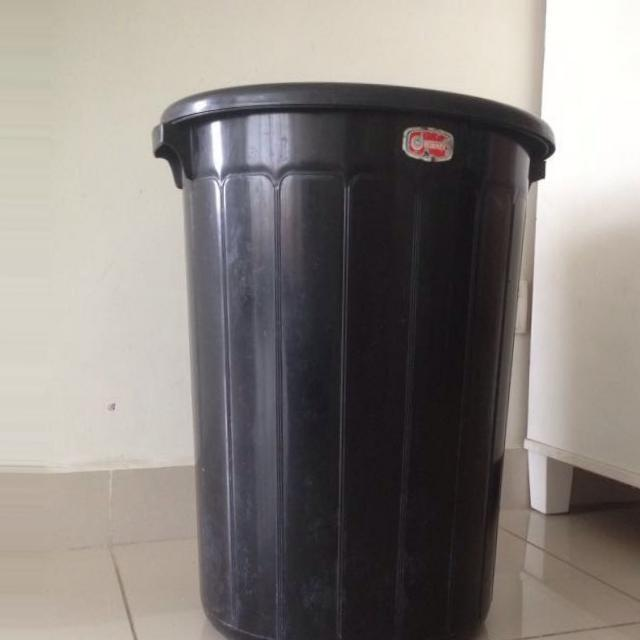Bote de Basura: (156, 76, 561, 639)
